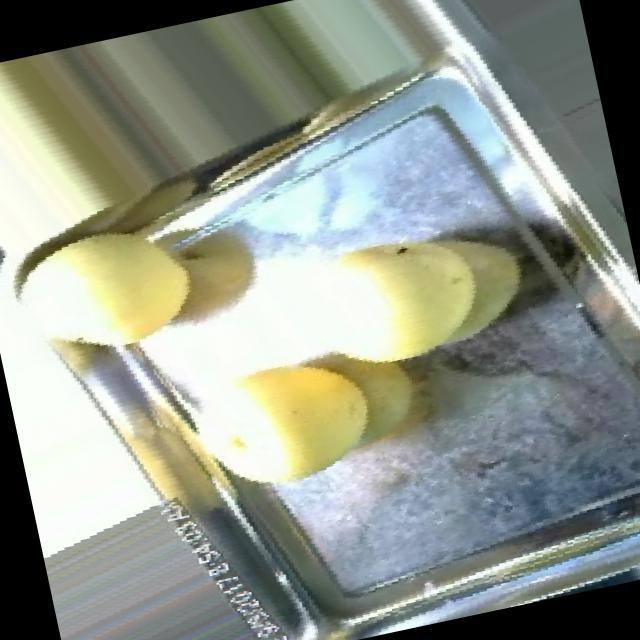Fruit: (302, 183, 522, 406), (0, 179, 226, 391), (200, 315, 405, 516)
